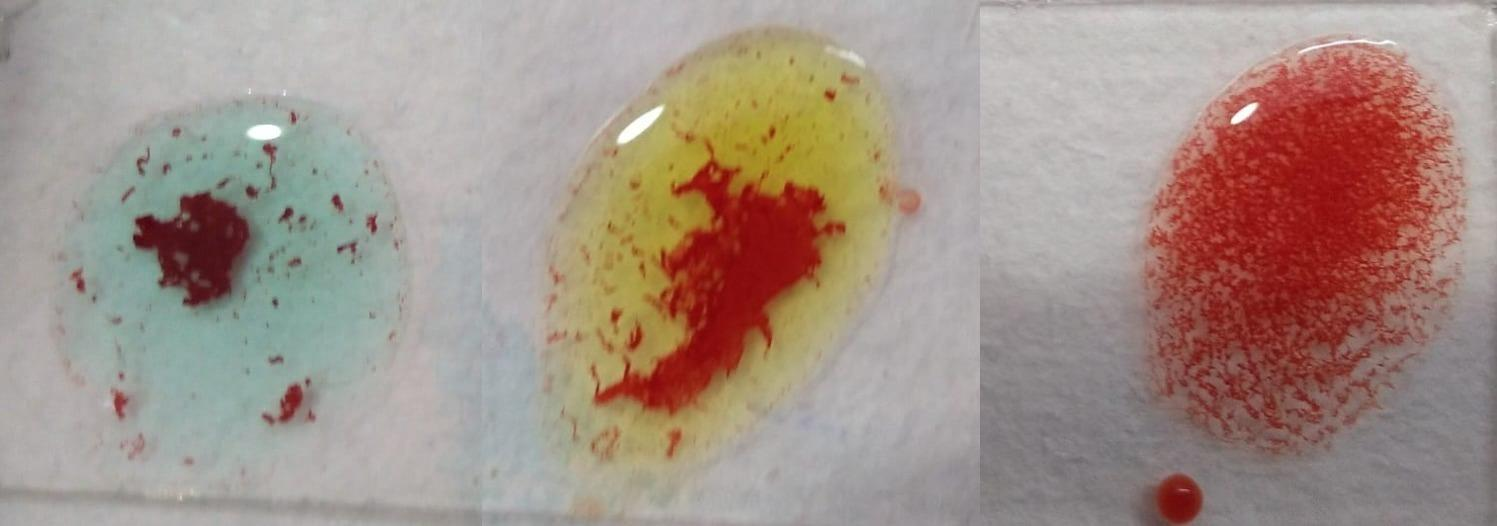A: (63, 99, 414, 454)
B: (551, 29, 897, 456)
D: (1147, 36, 1453, 454)
